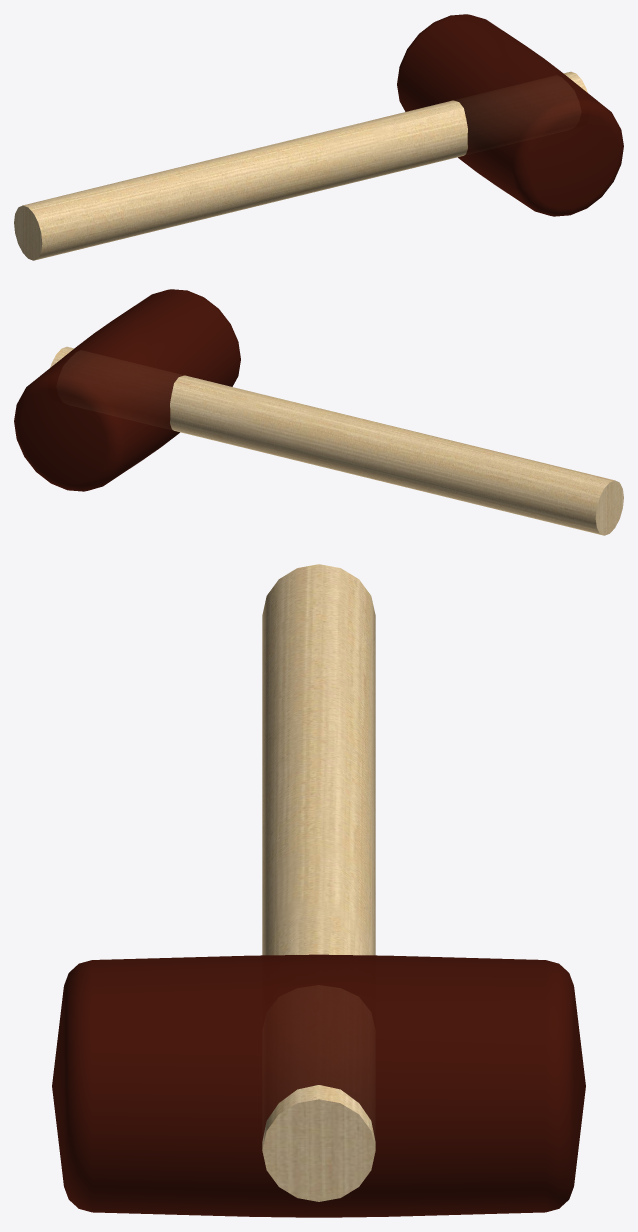
Rendered from 橡胶锤-11.FBX.
The picture shows the model from 3 angles, top to bottom: view 1: azimuth 30°, elevation 25°; view 2: azimuth 150°, elevation 25°; view 3: azimuth 270°, elevation 25°; orthographic projection. The views are drawn at different scales.
Parts seen in each view (by area): view 1: XiangJiaoChui; view 2: XiangJiaoChui; view 3: XiangJiaoChui.
Boxes of the visible parts, <box> form: XiangJiaoChui: <box>14,14,623,260</box>; XiangJiaoChui: <box>14,289,623,535</box>; XiangJiaoChui: <box>52,564,585,1217</box>.
Bounding box in the file's own units: 47.42 × 9.93 × 20.
